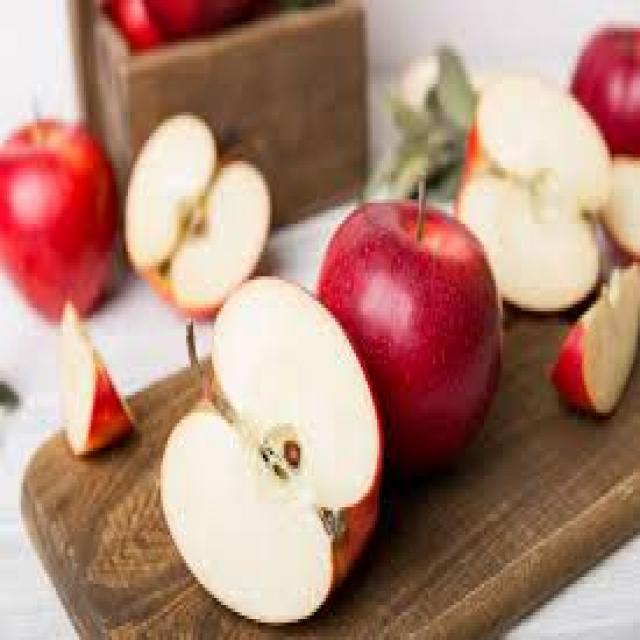Apple: (164, 281, 380, 625), (320, 207, 502, 478), (462, 71, 608, 310), (124, 110, 268, 314), (0, 115, 117, 318), (553, 267, 640, 420), (56, 300, 134, 454), (576, 23, 640, 146)
